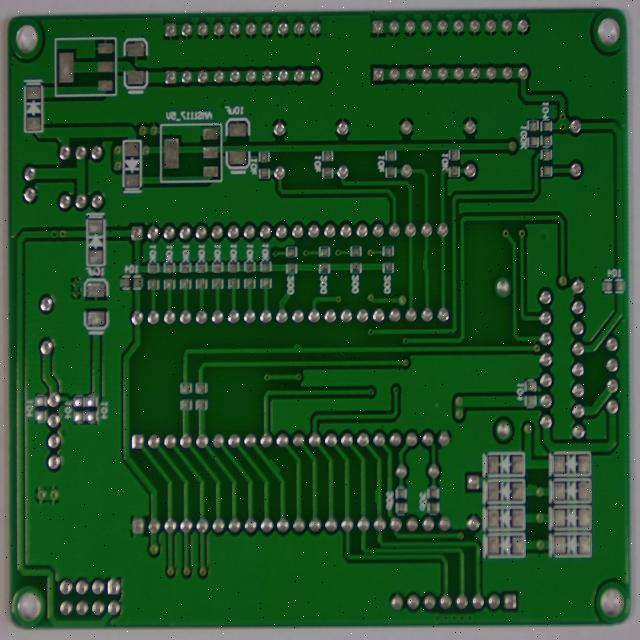spur: (293, 330, 312, 353), (269, 452, 287, 473), (532, 476, 549, 495), (423, 250, 438, 269), (377, 481, 387, 504)
